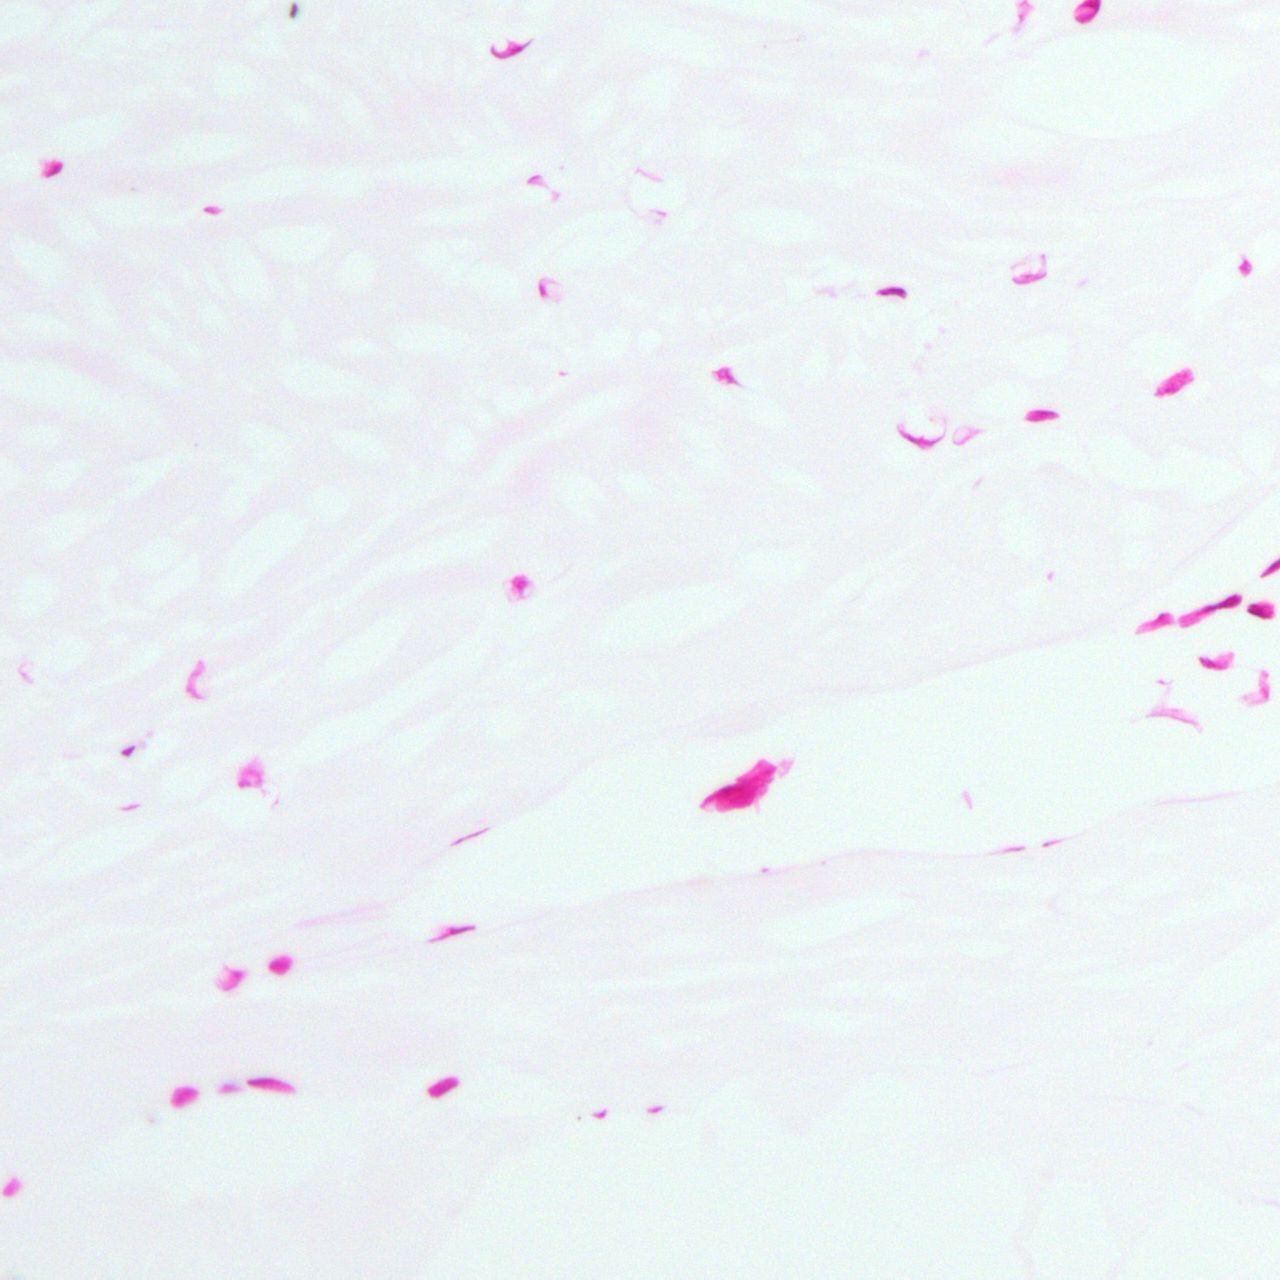dust: (288, 1, 299, 18)
nucleus-FG: (1176, 588, 1246, 629), (425, 1070, 462, 1101), (35, 152, 64, 182), (246, 1077, 297, 1092)
